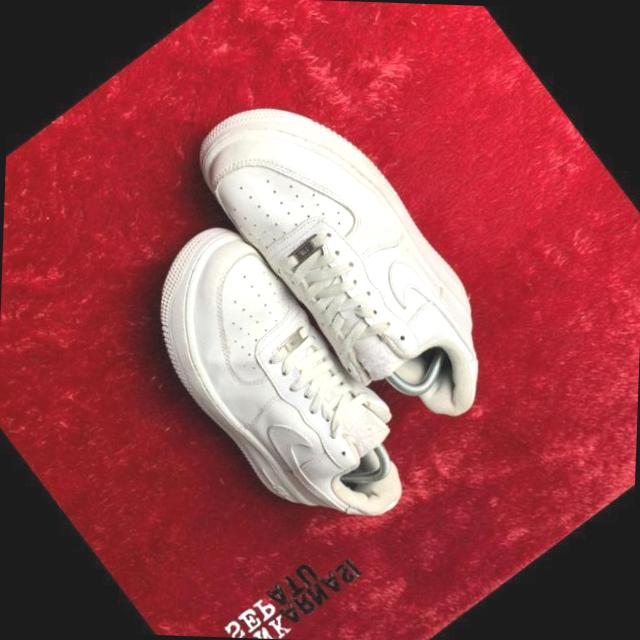nike_fake_airforce: (168, 49, 544, 455), (107, 199, 453, 572)
